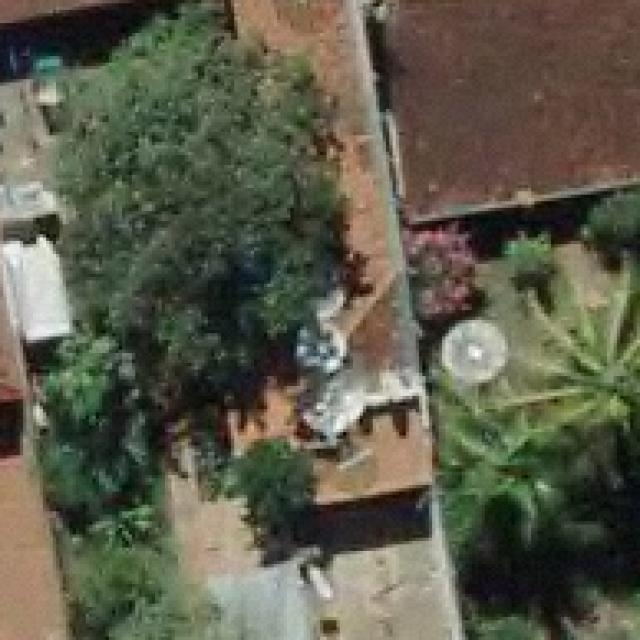trees: (57, 4, 344, 428), (443, 278, 640, 565), (37, 331, 159, 532), (111, 592, 240, 640)
